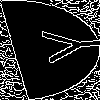Y: (25, 25, 100, 65)
